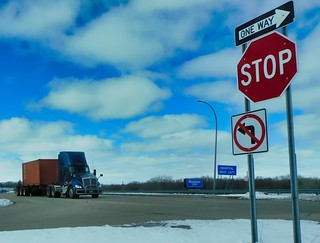StopSign: (236, 30, 298, 102)
